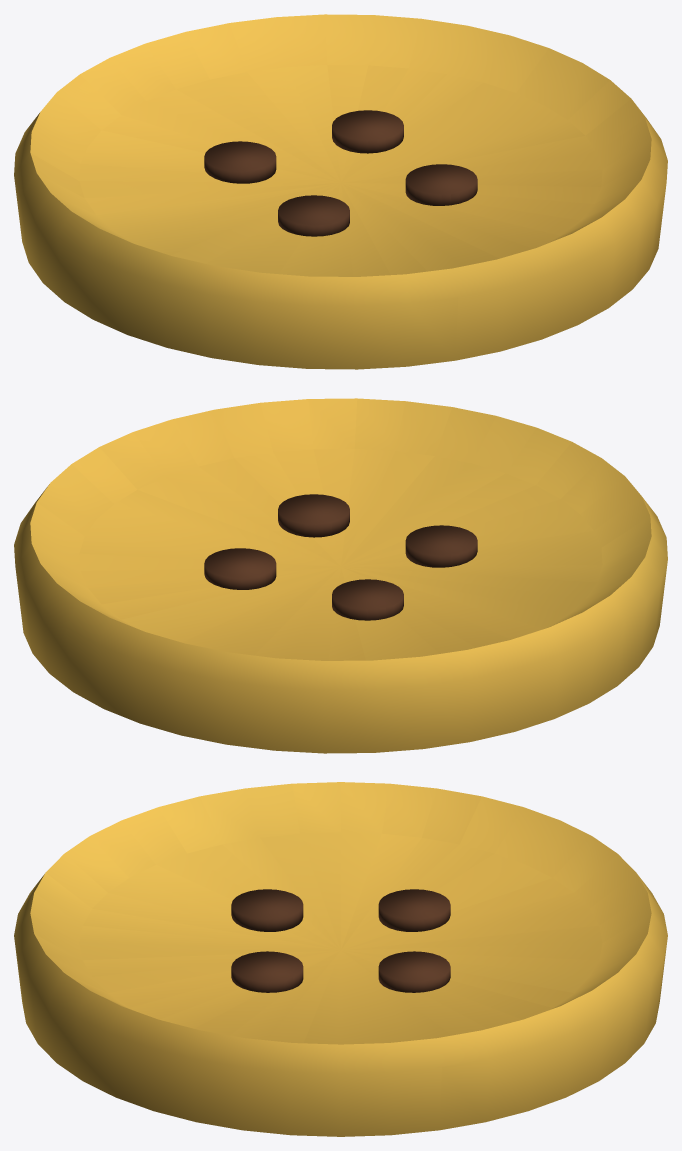
The model's file is den_button_b.glb.
3 views of the same model, one above another, from view 1: azimuth 30°, elevation 25°; view 2: azimuth 150°, elevation 25°; view 3: azimuth 270°, elevation 25° (orthographic).
Parts seen in each view (by area): view 1: den_button_b; view 2: den_button_b; view 3: den_button_b.
Part boxes in pixels (<box>): den_button_b: <box>14,14,667,369</box>; den_button_b: <box>14,398,667,753</box>; den_button_b: <box>14,782,667,1136</box>.
Size of the model in its own units: 4 by 0.6 by 4.
